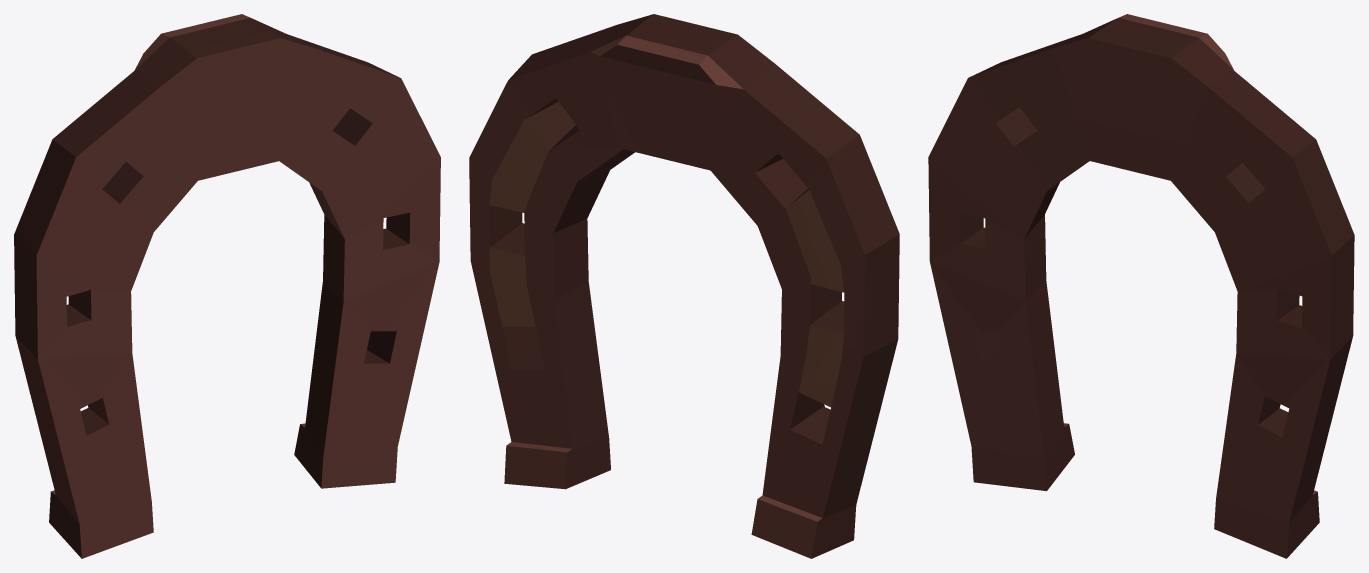
Rendered from icon_horseshoe.fbx.
3 views of the same model, side by side, from view 1: azimuth 30°, elevation 25°; view 2: azimuth 150°, elevation 25°; view 3: azimuth 330°, elevation 25° (orthographic).
Visible parts, largest first — view 1: icon_horseshoe; view 2: icon_horseshoe; view 3: icon_horseshoe.
Part boxes in pixels (x1,y1,x2,y2): icon_horseshoe: [14, 14, 440, 558]; icon_horseshoe: [469, 14, 899, 558]; icon_horseshoe: [928, 14, 1354, 558].
Size of the model in its own units: 31.2 by 34.88 by 5.07.
